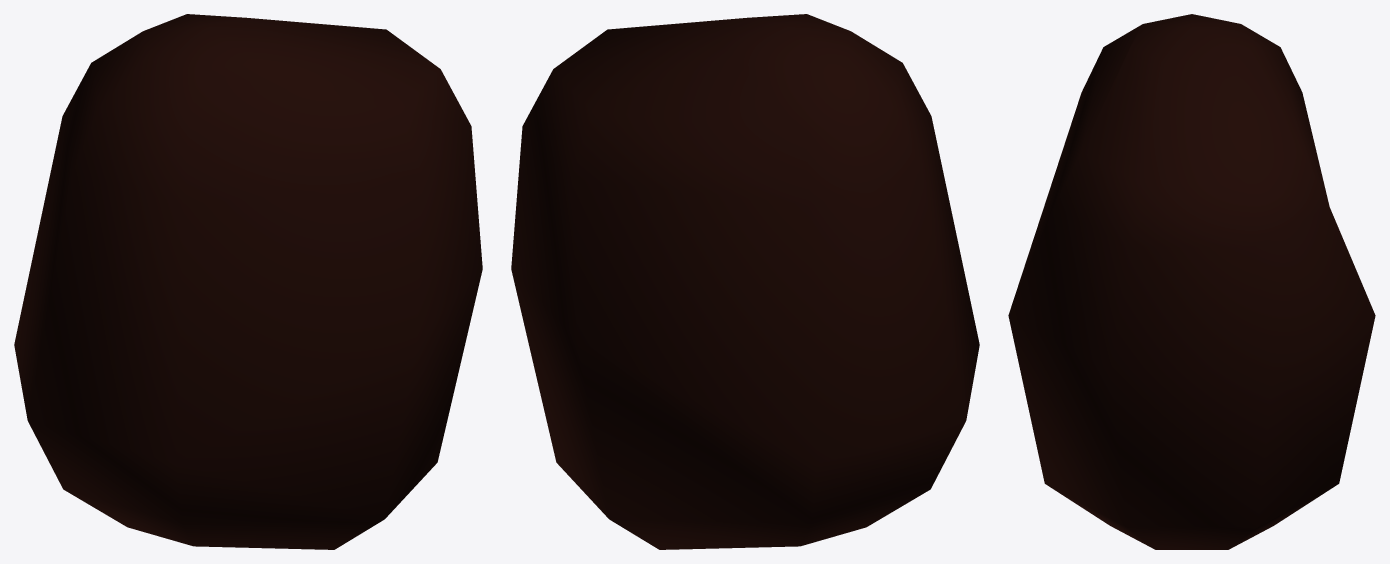
File: Asteroid.obj
The picture shows the model from 3 angles, left to right: view 1: azimuth 30°, elevation 25°; view 2: azimuth 150°, elevation 25°; view 3: azimuth 270°, elevation 25°; orthographic projection. The views are drawn at different scales.
Visible parts, largest first — view 1: Sphere; view 2: Sphere; view 3: Sphere.
Boxes of the visible parts, bbox=[...] form: Sphere: bbox=[14, 14, 482, 549]; Sphere: bbox=[511, 14, 979, 549]; Sphere: bbox=[1008, 14, 1375, 549].
Size of the model in its own units: 2.22 by 2.74 by 1.9.
